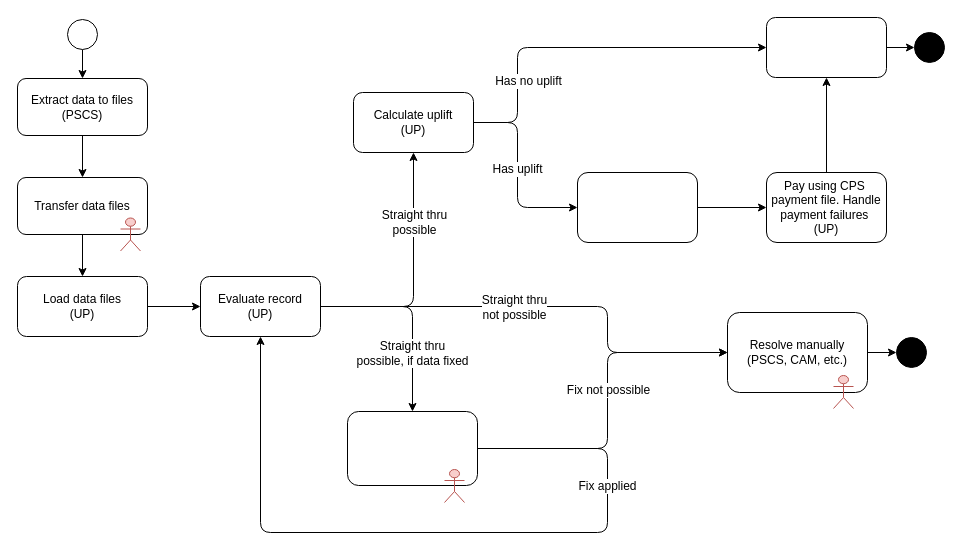
Some shapes in this 962 by 558 pixel diagram are drawn without their labels. The shapes that lost their labels are listed below. From the top down, each one's box as (x1, y1, x2, y2) in pixels, then its label:
(766, 16, 886, 78): Update PSCS automatically (RPA, CAM)
(576, 172, 698, 242): Sends out letters via Gov.Notify (UP)
(346, 410, 478, 486): Manually fix data (PSCS, UP)
